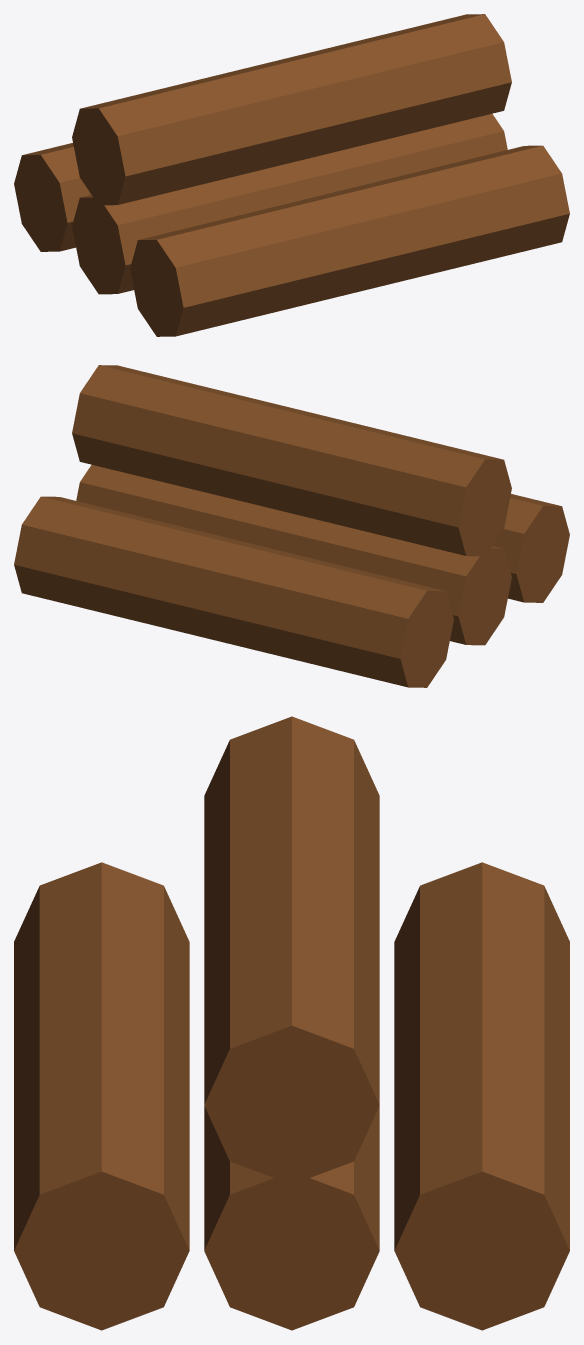
Rendered from wood_log_pile.glb.
3 renders of one model, top to bottom at view 1: azimuth 30°, elevation 25°; view 2: azimuth 150°, elevation 25°; view 3: azimuth 270°, elevation 25°, orthographic. The views are drawn at different scales.
Visible parts, largest first — view 1: wood_log_pile; view 2: wood_log_pile; view 3: wood_log_pile.
Boxes of the visible parts, bbox=[...] form: wood_log_pile: bbox=[14, 14, 569, 336]; wood_log_pile: bbox=[14, 365, 569, 687]; wood_log_pile: bbox=[14, 716, 569, 1330].
Size of the model in its own units: 1 by 0.46 by 0.76.
